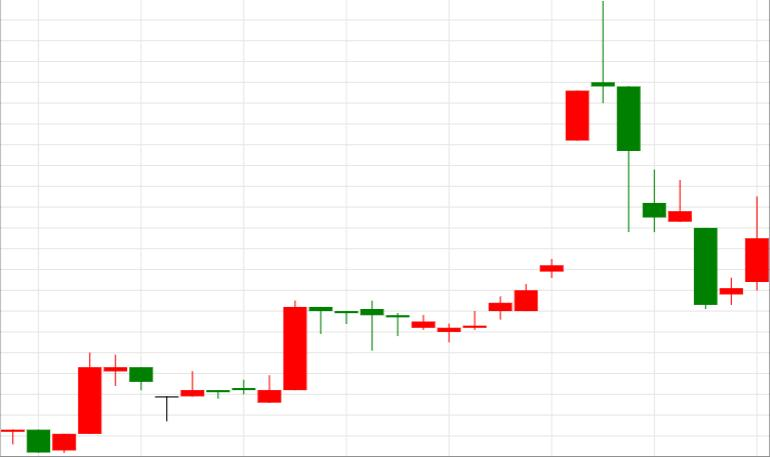evening_star_fall: (437, 1, 641, 342)
